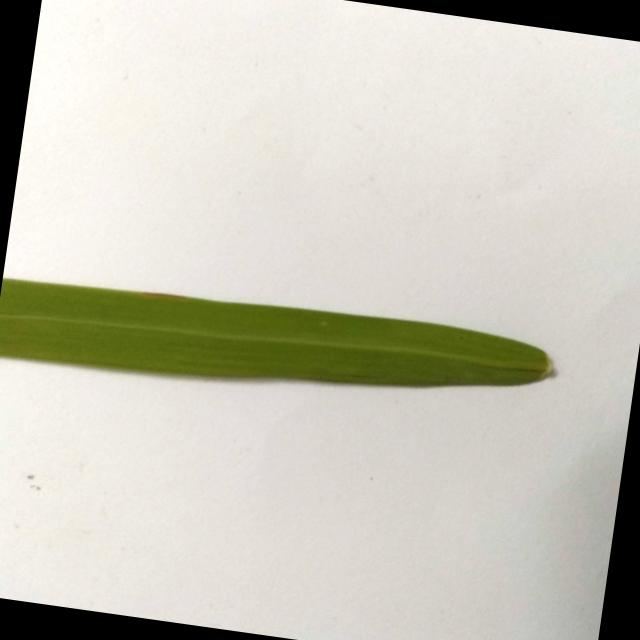Rice_Healthy: (0, 279, 552, 387)
